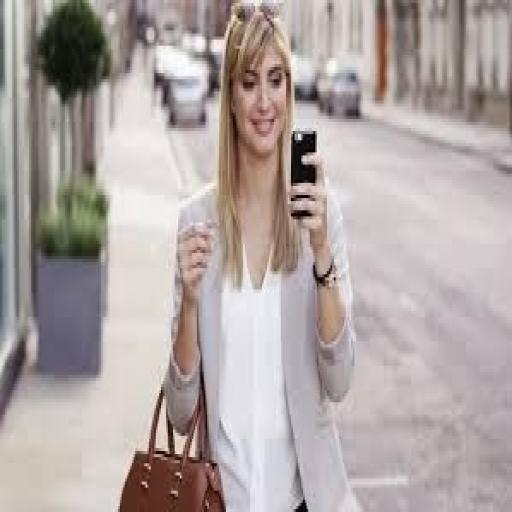texting: (161, 0, 363, 509)
